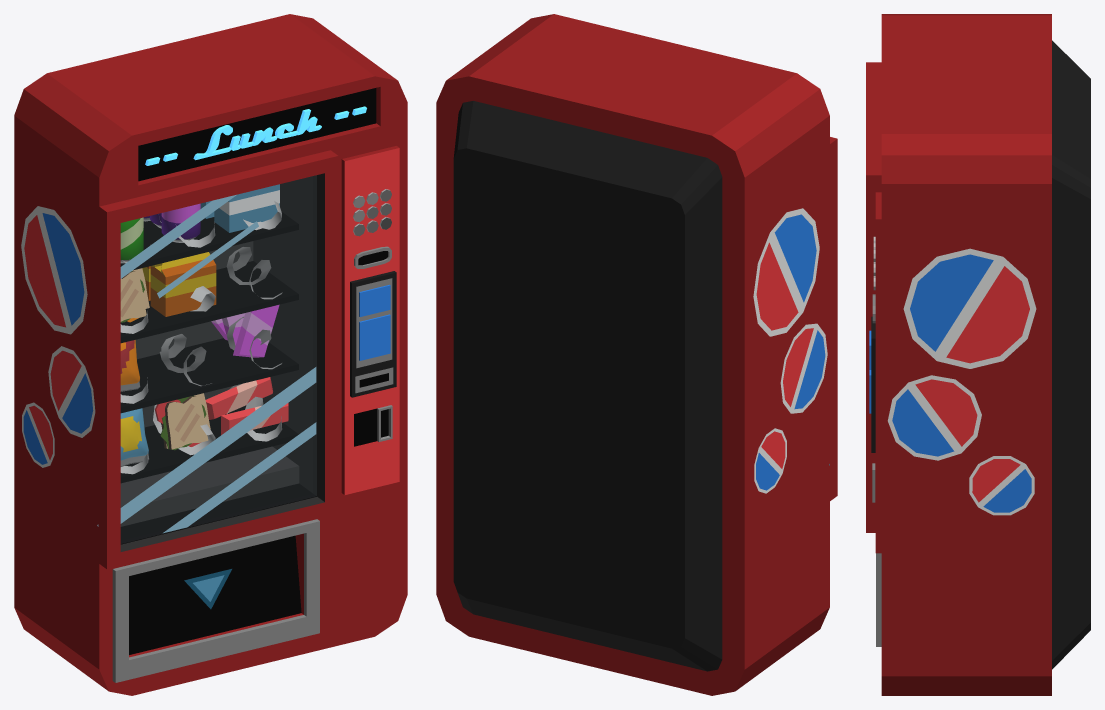
3 renders of one model, left to right at view 1: azimuth 30°, elevation 25°; view 2: azimuth 150°, elevation 25°; view 3: azimuth 270°, elevation 25°, orthographic.
Visible parts, largest first — view 1: Text; view 2: Text; view 3: Text.
Part boxes in pixels (left/top/right/bottom): Text: left=14, top=14, right=407, bottom=695; Text: left=436, top=14, right=837, bottom=695; Text: left=866, top=14, right=1090, bottom=695.
Bounding box in the file's own units: 1.16 × 2 × 0.7264.
3 materials, 2 textured.
